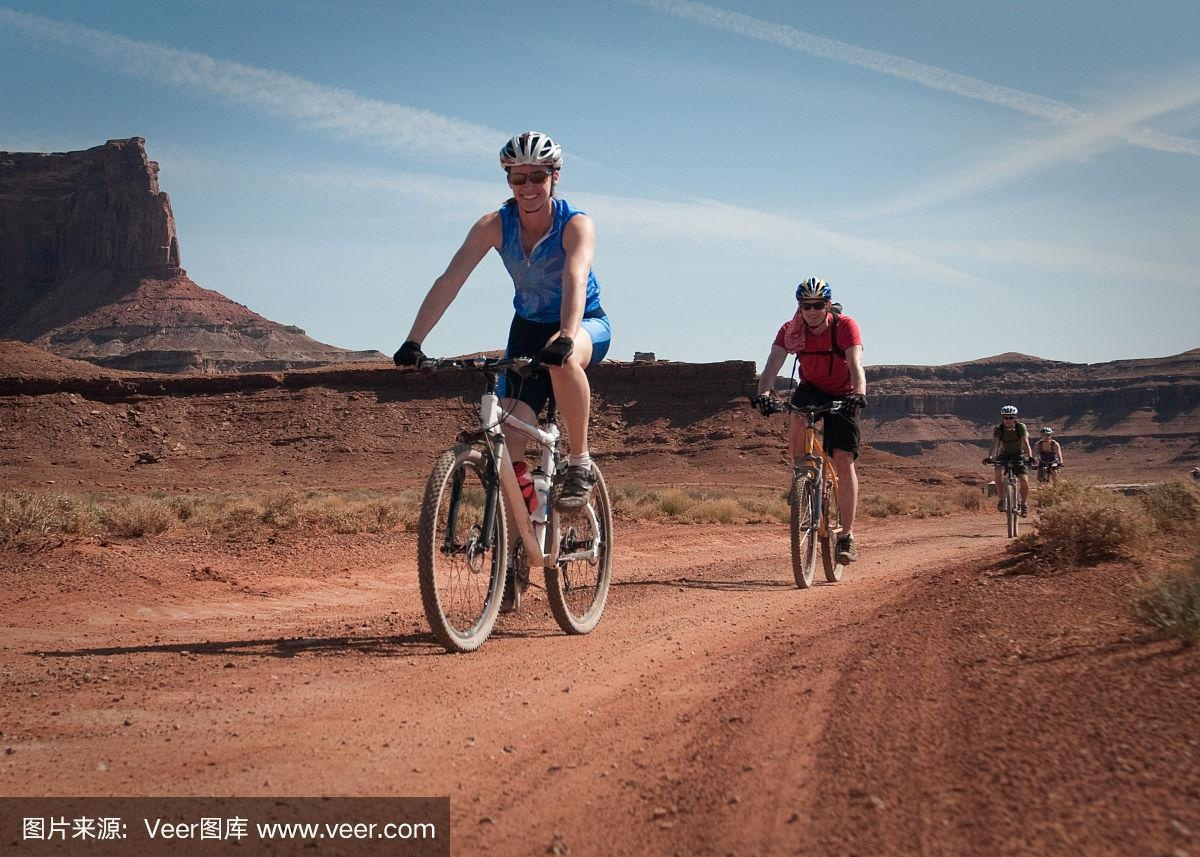non-vehicle: (404, 369, 616, 641), (770, 383, 859, 592), (982, 447, 1037, 541)
